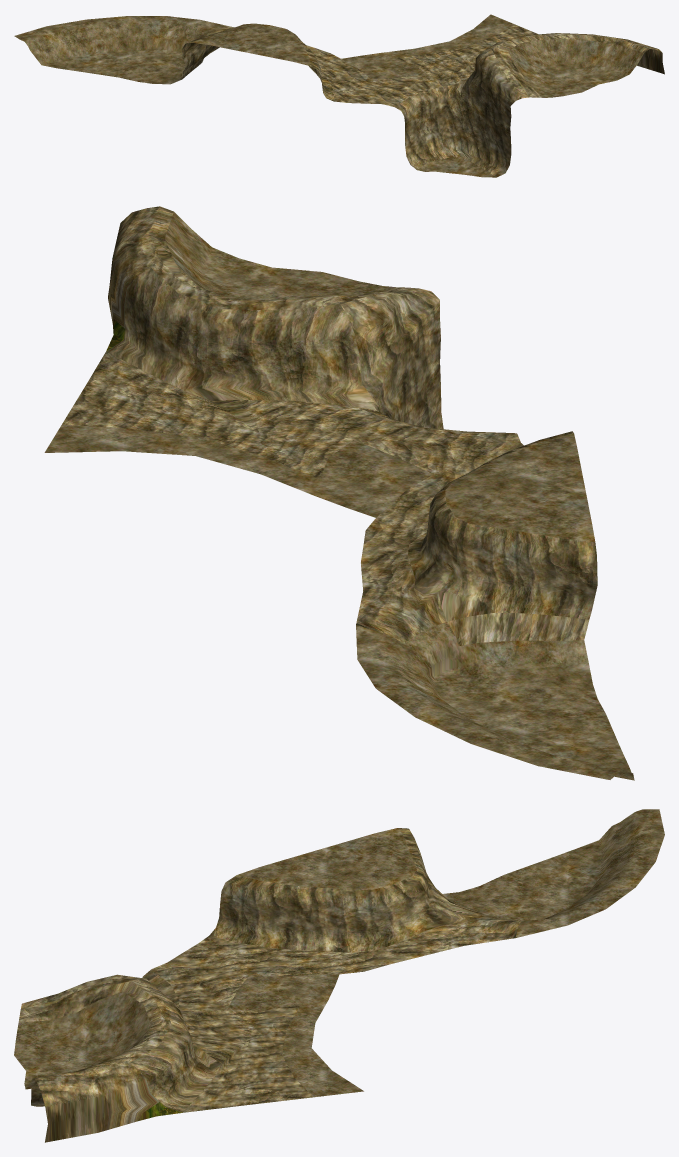
Rendered from RM_PLAYSURFACE_FINAL_MESH01.obj.
3 renders of one model, top to bottom at view 1: azimuth 30°, elevation 25°; view 2: azimuth 150°, elevation 25°; view 3: azimuth 270°, elevation 25°, orthographic. The views are drawn at different scales.
Visible parts, largest first — view 1: Mesh01; view 2: Mesh01; view 3: Mesh01.
Part boxes in pixels (x1,y1,x2,y2): Mesh01: [14, 14, 664, 177]; Mesh01: [44, 206, 634, 780]; Mesh01: [14, 809, 664, 1142].
Size of the model in its own units: 4537 by 977 by 3745.
